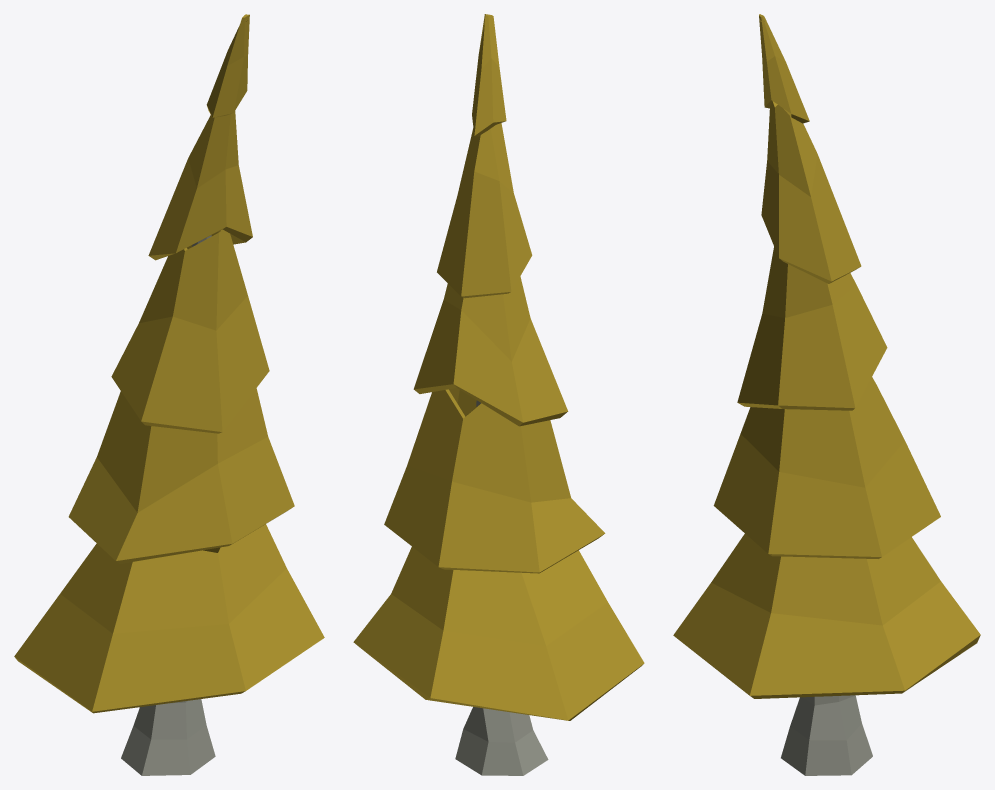
File: Tree_Pine6.fbx
3 views of the same model, side by side, from view 1: azimuth 30°, elevation 25°; view 2: azimuth 150°, elevation 25°; view 3: azimuth 270°, elevation 25° (orthographic). The views are drawn at different scales.
Parts seen in each view (by area): view 1: Cylinder.014; view 2: Cylinder.014; view 3: Cylinder.014.
Boxes of the visible parts, x1,y1,x2,y2 form: Cylinder.014: [14, 14, 324, 775]; Cylinder.014: [353, 14, 644, 775]; Cylinder.014: [673, 14, 980, 775].
Size of the model in its own units: 272 by 844 by 308.
